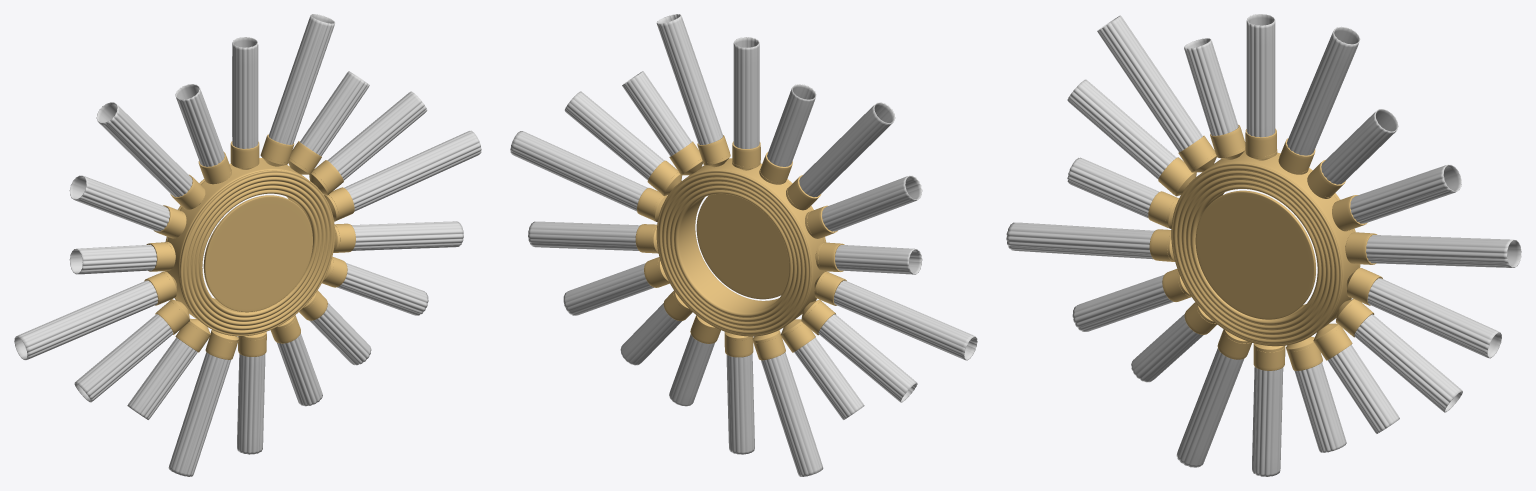
File: FAIR AP9 GOLD D520.glb
3 renders of one model, left to right at view 1: azimuth 30°, elevation 25°; view 2: azimuth 150°, elevation 25°; view 3: azimuth 330°, elevation 25°, orthographic. The views are drawn at different scales.
Parts seen in each view (by area): view 1: glass, Metal_lustra; view 2: glass, Metal_lustra; view 3: glass, Metal_lustra.
Part boxes in pixels (x1,y1,x2,y2): glass: (14, 14, 481, 476); Metal_lustra: (144, 134, 355, 359); glass: (510, 14, 977, 476); Metal_lustra: (635, 135, 846, 360); glass: (1006, 14, 1521, 476); Metal_lustra: (1148, 124, 1382, 370).
Bounding box in the file's own units: 1.54 × 1.37 × 0.1117.
